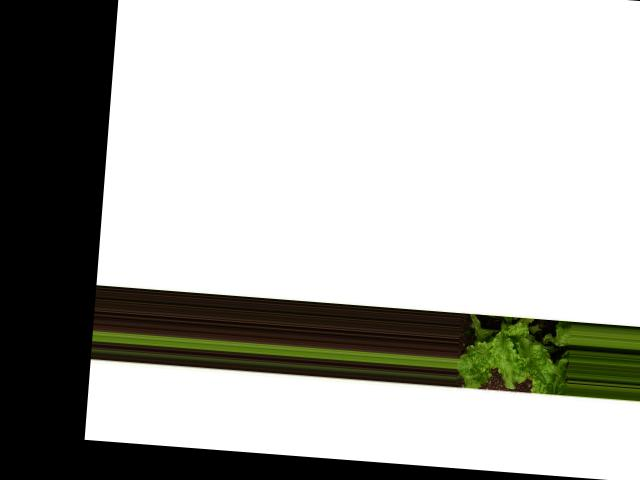lettuce: (456, 308, 573, 392)
